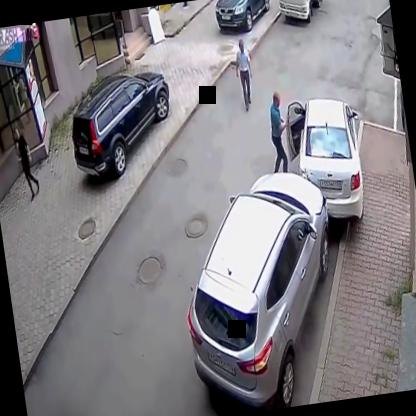accident: (204, 66, 384, 350)
